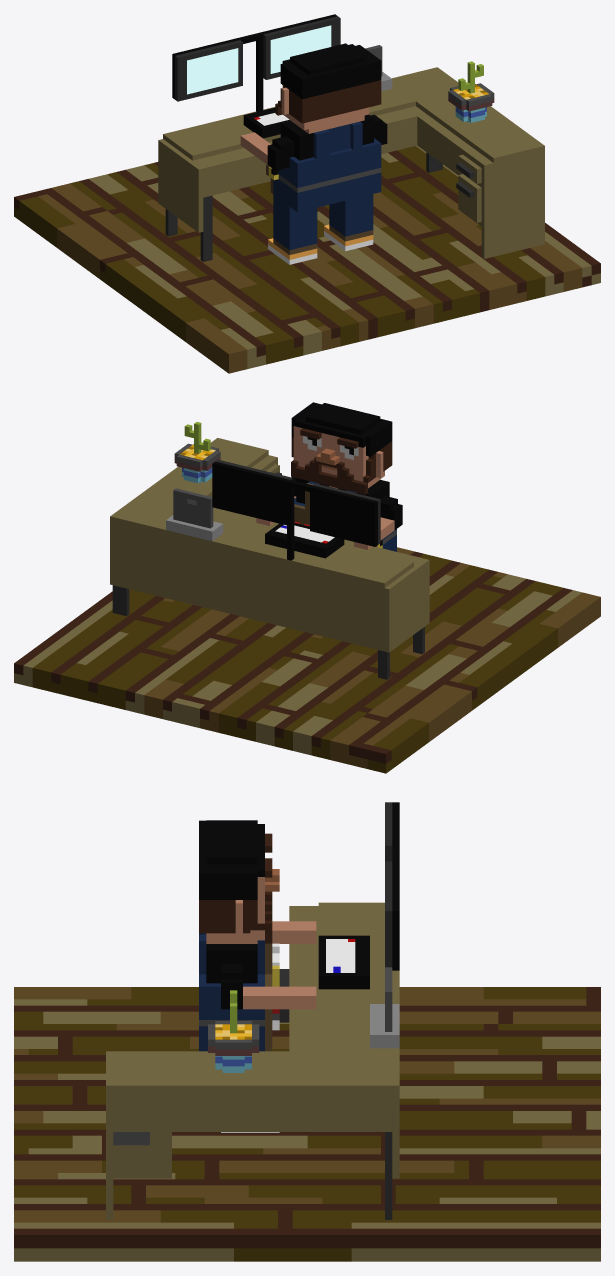
The picture shows the model from 3 angles, top to bottom: view 1: azimuth 30°, elevation 25°; view 2: azimuth 150°, elevation 25°; view 3: azimuth 270°, elevation 25°; orthographic projection. The views are drawn at different scales.
Parts seen in each view (by area): view 1: untitled.vox-0; view 2: untitled.vox-0; view 3: untitled.vox-0.
Boxes of the visible parts, x1=… form: untitled.vox-0: x1=14, y1=14, x2=600, y2=373; untitled.vox-0: x1=14, y1=402, x2=600, y2=773; untitled.vox-0: x1=14, y1=802, x2=600, y2=1261.
Bounding box in the file's own units: 8 × 4.41 × 8.
Materials: 6 (4 with a texture image).
